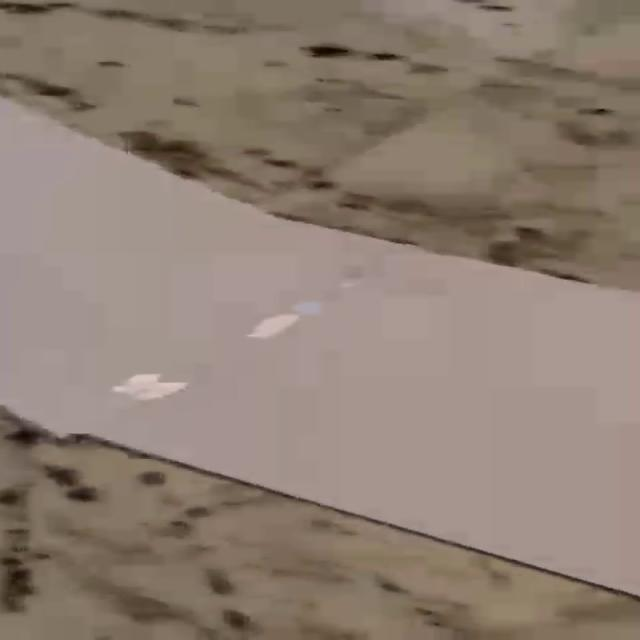road: (0, 100, 636, 594)
